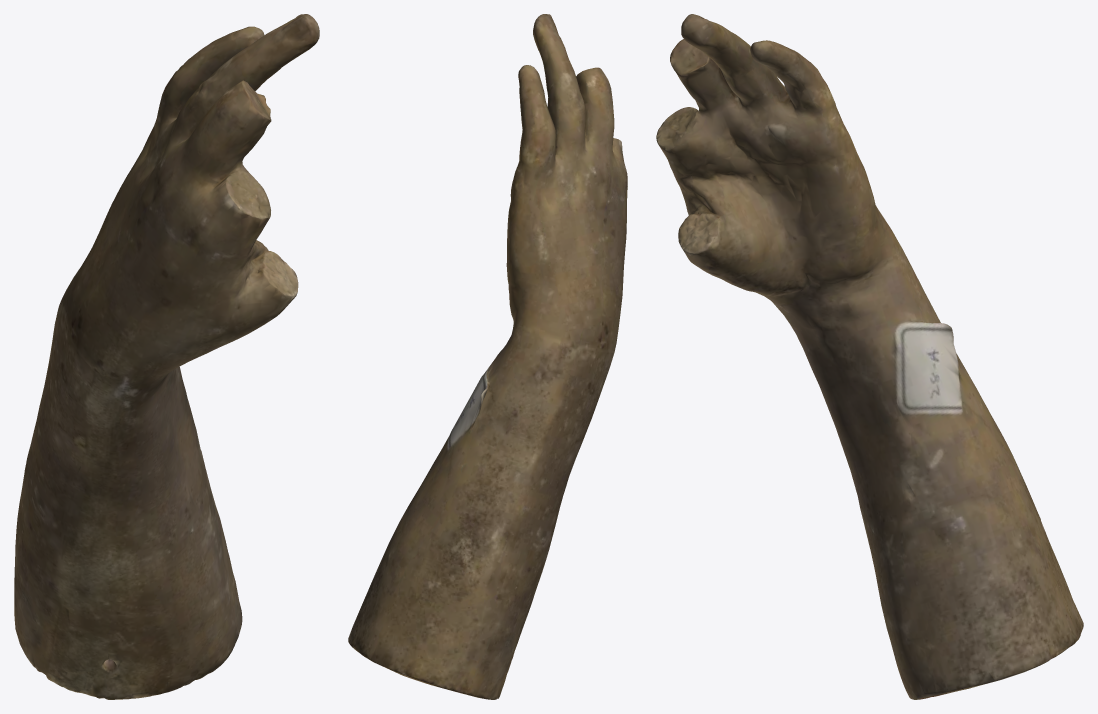
The model's file is forearm.glb.
3 renders of one model, left to right at view 1: azimuth 30°, elevation 25°; view 2: azimuth 150°, elevation 25°; view 3: azimuth 270°, elevation 25°, orthographic. The views are drawn at different scales.
Bounding box in the file's own units: 0.3247 × 0.9999 × 0.5656.
1 material, 1 textured.
